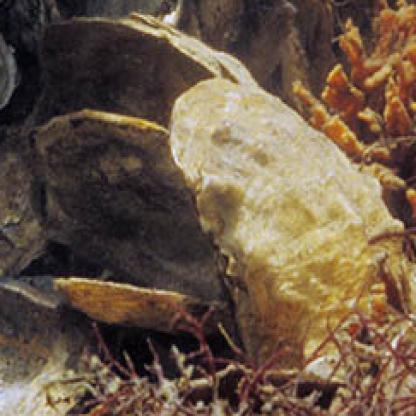Oyster- Indeterminate: (47, 16, 266, 130)
Oyster-Closed: (170, 76, 411, 371), (0, 127, 49, 290), (0, 28, 19, 108)
Oyster-Open: (41, 109, 239, 335)
